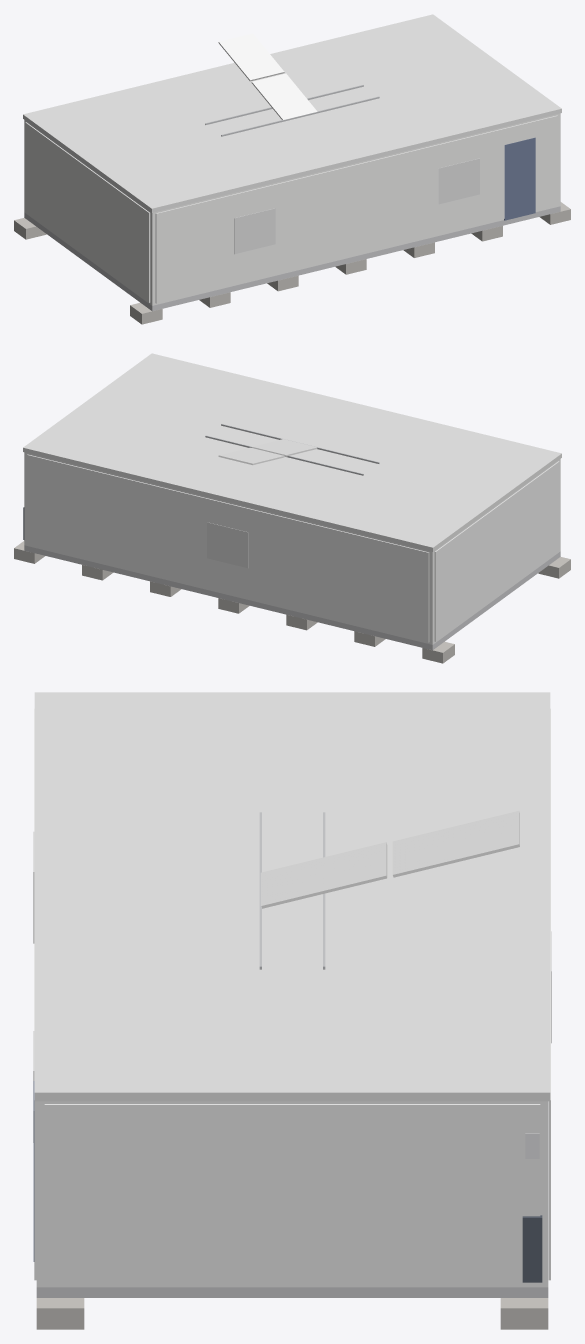
Rendered from Studio-40-FullSolar-LOD1.glb.
The picture shows the model from 3 angles, top to bottom: view 1: azimuth 30°, elevation 25°; view 2: azimuth 150°, elevation 25°; view 3: azimuth 270°, elevation 25°; orthographic projection. The views are drawn at different scales.
Parts seen in each view (by area): view 1: RoofMain, ExteriorPanelsStandard, SolarPanelArray, BaseFrame, WindowsStandard, ExteriorShell, FoundationBlocks, EntryDoor, SolarMountingHardware; view 2: RoofMain, ExteriorPanelsStandard, BaseFrame, ExteriorShell, FoundationBlocks, WindowsStandard, SolarPanelArray, SolarMountingHardware; view 3: RoofMain, ExteriorPanelsStandard, SolarPanelArray, ExteriorShell, BaseFrame, FoundationBlocks, SolarBattery, SolarMountingHardware.
Part boxes in pixels (left/top/right/bottom): RoofMain: left=23, top=14, right=561, bottom=212; ExteriorPanelsStandard: left=25, top=115, right=557, bottom=303; SolarPanelArray: left=218, top=33, right=317, bottom=119; BaseFrame: left=24, top=206, right=560, bottom=311; WindowsStandard: left=234, top=158, right=479, bottom=254; ExteriorShell: left=24, top=113, right=560, bottom=305; FoundationBlocks: left=14, top=202, right=570, bottom=324; EntryDoor: left=504, top=137, right=535, bottom=220; SolarMountingHardware: left=205, top=85, right=379, bottom=136; RoofMain: left=23, top=353, right=561, bottom=551; ExteriorPanelsStandard: left=27, top=454, right=559, bottom=642; BaseFrame: left=24, top=545, right=560, bottom=650; ExteriorShell: left=24, top=452, right=560, bottom=644; FoundationBlocks: left=14, top=541, right=570, bottom=663; WindowsStandard: left=207, top=522, right=248, bottom=568; SolarPanelArray: left=218, top=439, right=317, bottom=465; SolarMountingHardware: left=205, top=424, right=379, bottom=475; RoofMain: left=34, top=692, right=550, bottom=1101; ExteriorPanelsStandard: left=34, top=708, right=550, bottom=1284; SolarPanelArray: left=260, top=811, right=519, bottom=908; ExteriorShell: left=36, top=1101, right=548, bottom=1287; BaseFrame: left=36, top=1287, right=548, bottom=1297; FoundationBlocks: left=36, top=1298, right=548, bottom=1329; SolarBattery: left=522, top=1215, right=542, bottom=1282; SolarMountingHardware: left=259, top=812, right=325, bottom=969.
Bounding box in the file's own units: 12.49 × 4.07 × 6.53.
